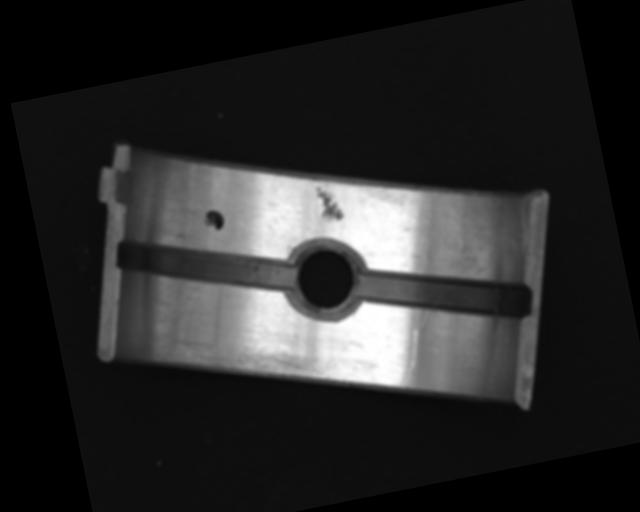blot: (203, 207, 226, 232)
bruise: (313, 182, 345, 224)
gap: (111, 209, 297, 323), (355, 242, 533, 347)
hole: (279, 239, 371, 325)
nick: (390, 330, 427, 391)
scratch: (163, 311, 330, 409)
